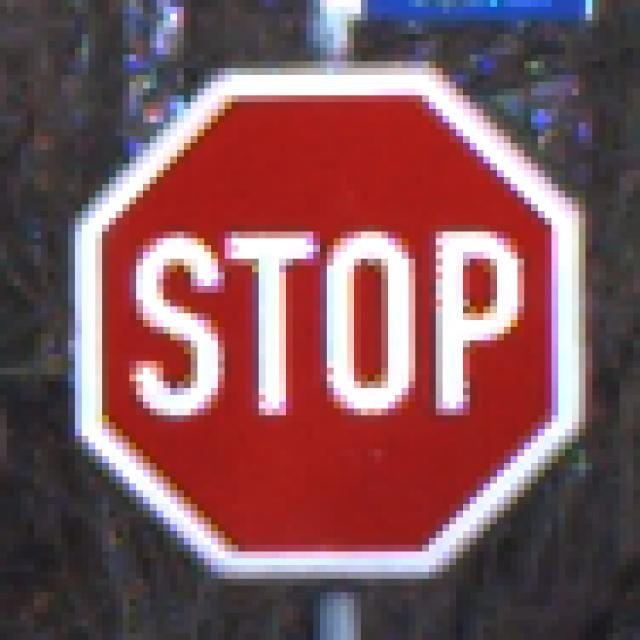STOP: (56, 62, 587, 587)
